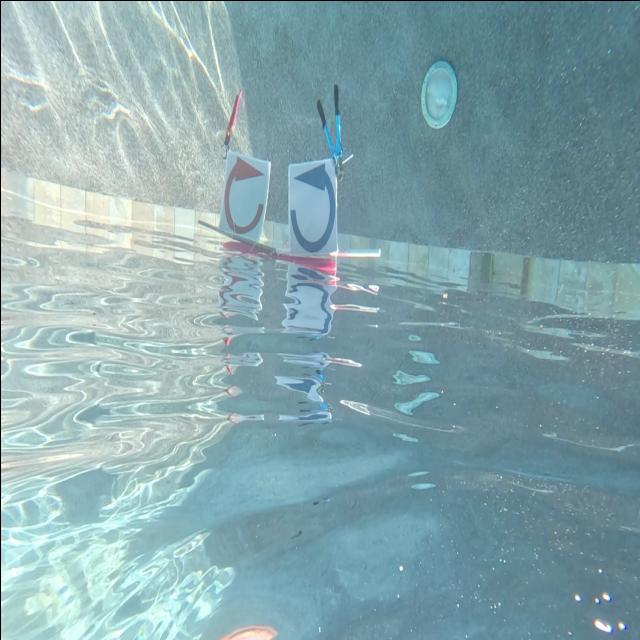blue_side: (284, 163, 338, 259)
red_side: (227, 150, 270, 238)
